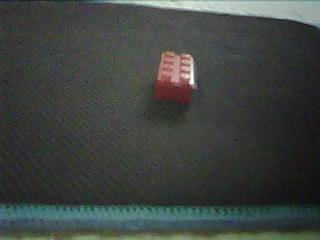lego: (154, 49, 195, 105)
